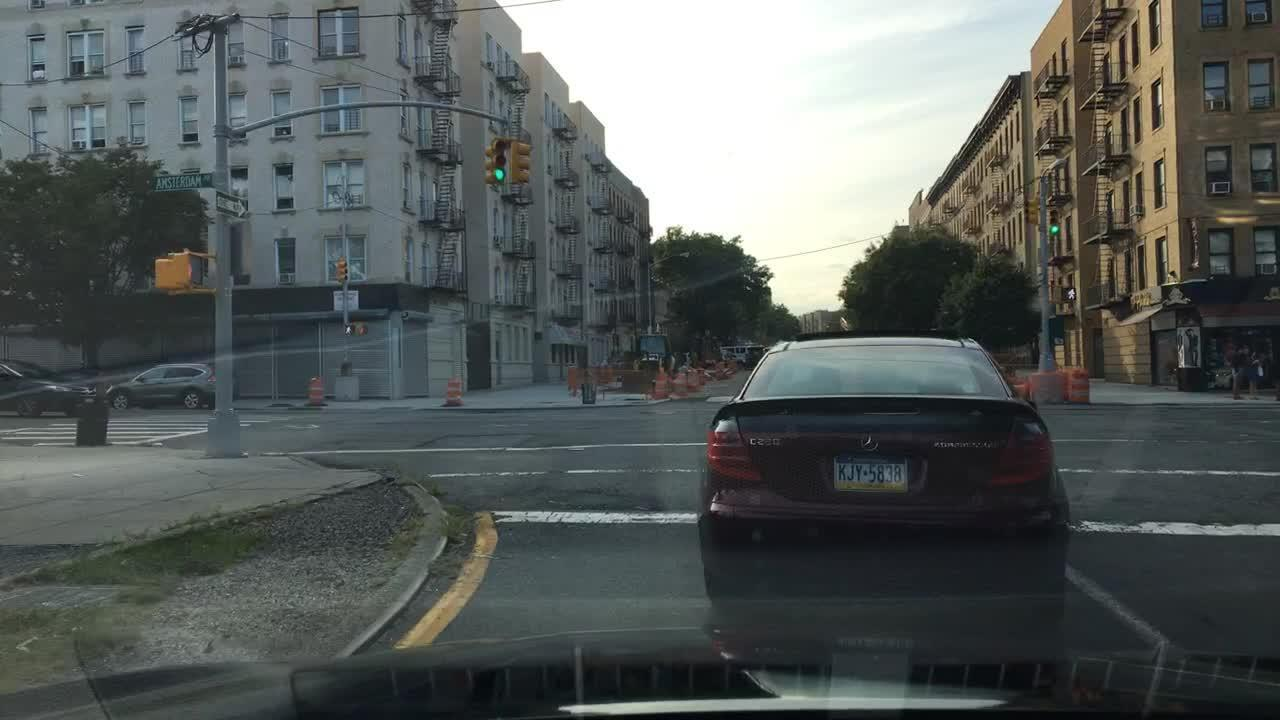Mercedes: (847, 423, 887, 457)
